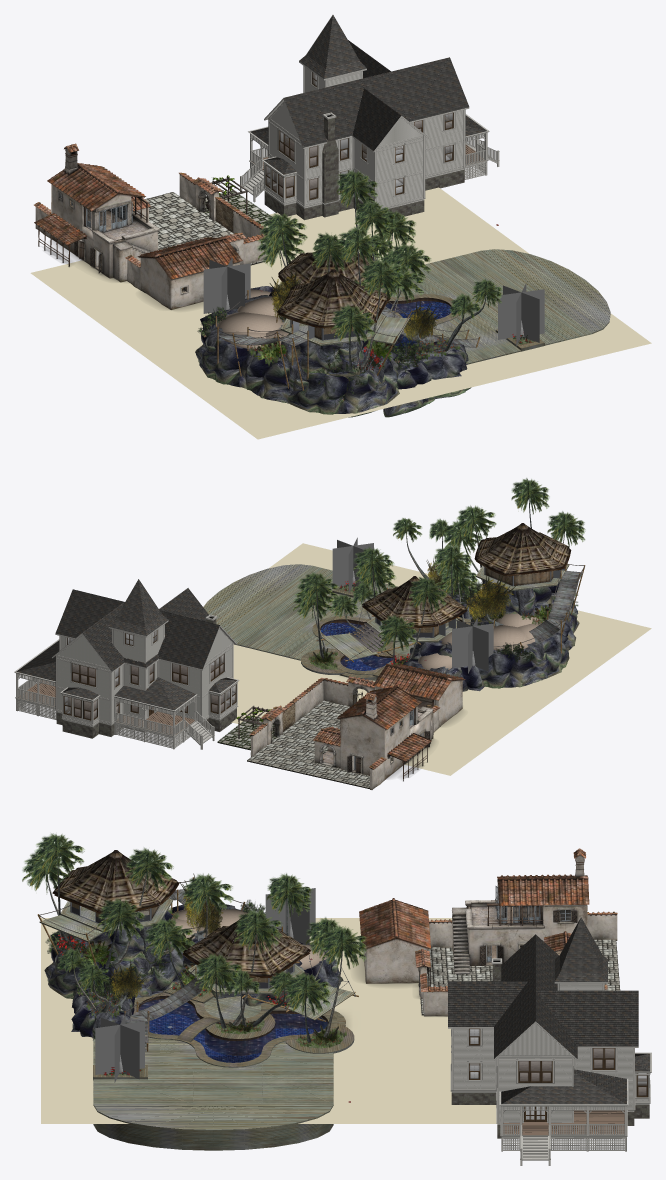
The picture shows the model from 3 angles, top to bottom: view 1: azimuth 30°, elevation 25°; view 2: azimuth 150°, elevation 25°; view 3: azimuth 270°, elevation 25°; orthographic projection. The views are drawn at different scales.
Visible parts, largest first — view 1: Tikki (×36), Terrain 0,1, Bates Home Structure (×6), Bates Home Walls (×5), 8f8 - Primavera in Toscana Mansion RARE (×5), 8f8 - Primavera in Toscana Shed RARE (×2), Tiki-Bar-Dancefloor, 8f8 - primavera in Toscana Loggia Wall (×2), Pool animations; view 2: Tikki (×33), Bates Home Structure (×11), Terrain 0,1, Bates Home Walls (×5), 8f8 - Primavera in Toscana Mansion RARE (×2), Tiki-Bar-Dancefloor, 8f8 - Primavera in Toscana Shed RARE (×2), 8f8 - primavera in Toscana Loggia Wall (×2), Pool animations, 8f8 - Primavera in Toscana - Hall Segment; view 3: Tikki (×45), Bates Home Structure (×9), Terrain 0,1, Tiki-Bar-Dancefloor, 8f8 - Primavera in Toscana Mansion RARE (×5), Bates Home Walls (×3), 8f8 - Primavera in Toscana Shed RARE (×2), Pool animations, 8f8 - Primavera in Toscana Courtyard Wall 2 (×2), 8f8 - primavera in Toscana Loggia Wall.
Boxes of the visible parts, bbox=[...] form: Tikki (×36): bbox=[195, 169, 592, 417]; Terrain 0,1: bbox=[30, 187, 651, 439]; Bates Home Structure (×6): bbox=[249, 15, 488, 223]; Bates Home Walls (×5): bbox=[268, 101, 465, 208]; 8f8 - Primavera in Toscana Mansion RARE (×5): bbox=[47, 163, 159, 282]; 8f8 - Primavera in Toscana Shed RARE (×2): bbox=[137, 236, 242, 309]; Tiki-Bar-Dancefloor: bbox=[480, 249, 610, 333]; 8f8 - primavera in Toscana Loggia Wall (×2): bbox=[34, 213, 270, 264]; Pool animations: bbox=[386, 301, 450, 350]; Tikki (×33): bbox=[225, 478, 585, 691]; Bates Home Structure (×11): bbox=[14, 579, 238, 749]; Terrain 0,1: bbox=[231, 543, 651, 775]; Bates Home Walls (×5): bbox=[55, 624, 233, 723]; 8f8 - Primavera in Toscana Mansion RARE (×2): bbox=[337, 685, 431, 779]; Tiki-Bar-Dancefloor: bbox=[203, 564, 311, 629]; 8f8 - Primavera in Toscana Shed RARE (×2): bbox=[373, 663, 465, 726]; 8f8 - primavera in Toscana Loggia Wall (×2): bbox=[306, 677, 431, 761]; Pool animations: bbox=[321, 622, 392, 670]; 8f8 - Primavera in Toscana - Hall Segment: bbox=[314, 741, 340, 767]; Tikki (×45): bbox=[22, 833, 366, 1124]; Bates Home Structure (×9): bbox=[448, 917, 650, 1160]; Terrain 0,1: bbox=[41, 918, 496, 1123]; Tiki-Bar-Dancefloor: bbox=[93, 908, 333, 1150]; 8f8 - Primavera in Toscana Mansion RARE (×5): bbox=[452, 874, 589, 974]; Bates Home Walls (×3): bbox=[451, 1023, 634, 1122]; 8f8 - Primavera in Toscana Shed RARE (×2): bbox=[359, 898, 430, 983]; Pool animations: bbox=[139, 999, 327, 1062]; 8f8 - Primavera in Toscana Courtyard Wall 2 (×2): bbox=[429, 911, 617, 947]; 8f8 - primavera in Toscana Loggia Wall: bbox=[420, 973, 447, 1016].
Size of what is drawn, in the model's own units: 75.56 by 29.63 by 83.79.
Materials: 190 (187 with a texture image).
